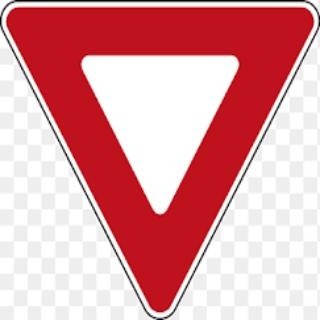sign_yield: (5, 2, 315, 317)
